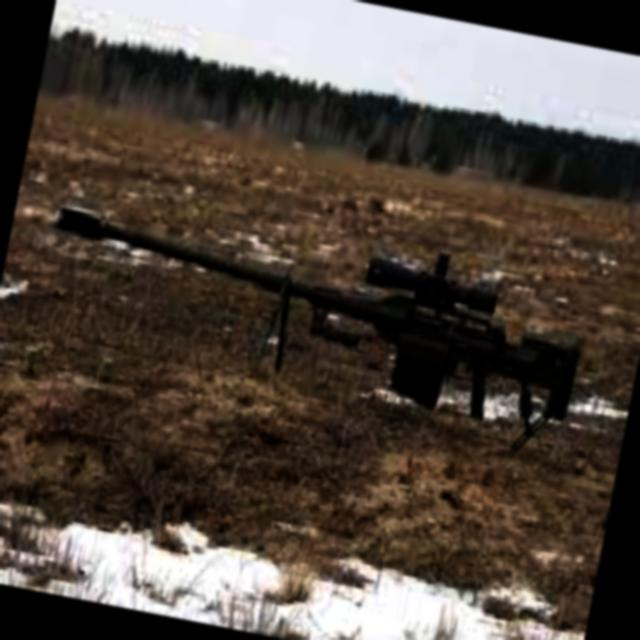rifle: (8, 160, 614, 462)
